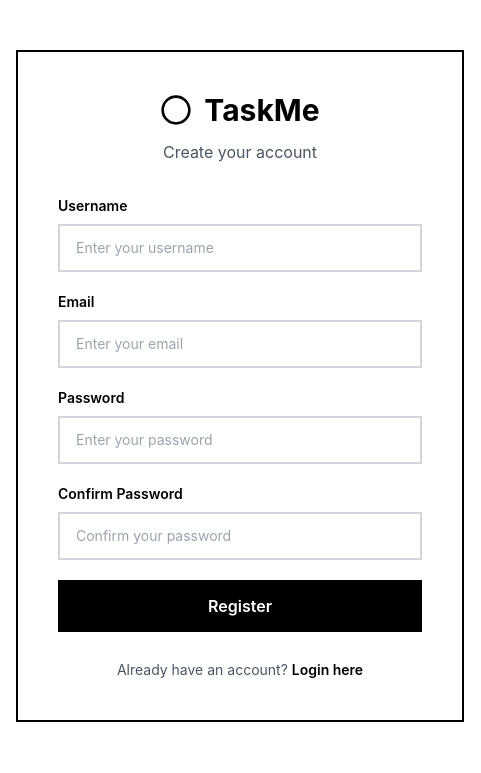
Test: Register Component › displays error message on registration failure
In the field labelled "Username": (240, 248) [58,224,422,272], type "testuser"
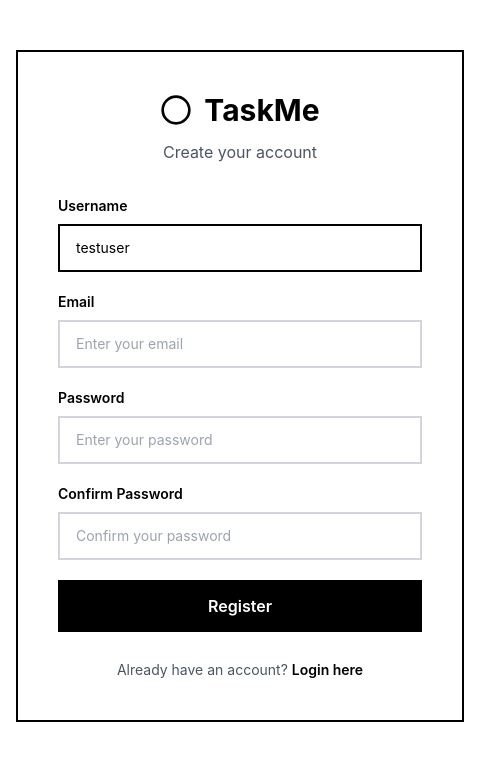
In the field labelled "Email": (240, 344) [58,320,422,368], type "test@example.com"
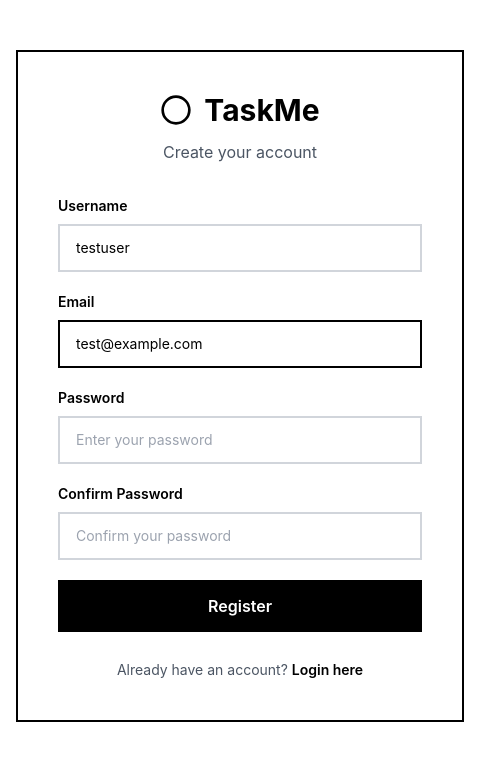
In the password field labelled "Password": (240, 440) [58,416,422,464], type "password123"
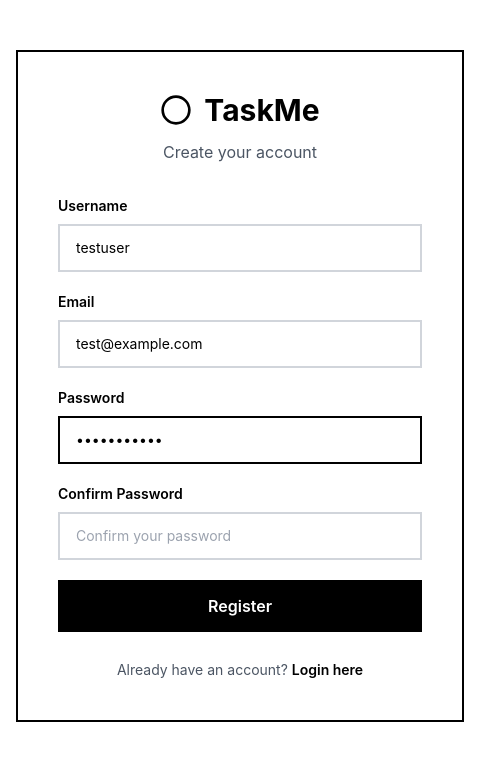
In the password field labelled "Confirm Password": (240, 536) [58,512,422,560], type "password123"
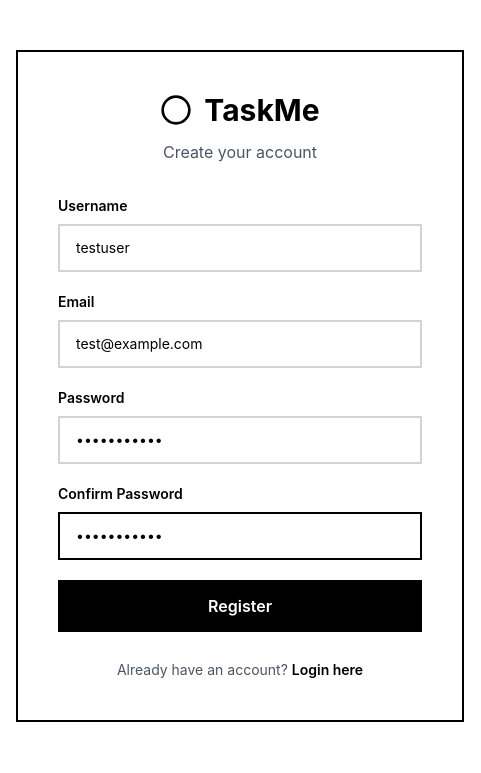
Click the button "Register": (240, 606) [58,580,422,632]
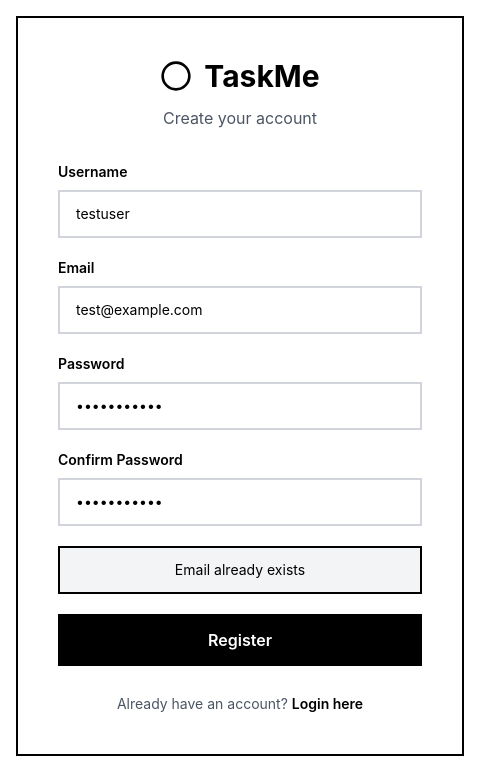
Check: the text "Email already exists" is shown, box [58,546,422,594]
